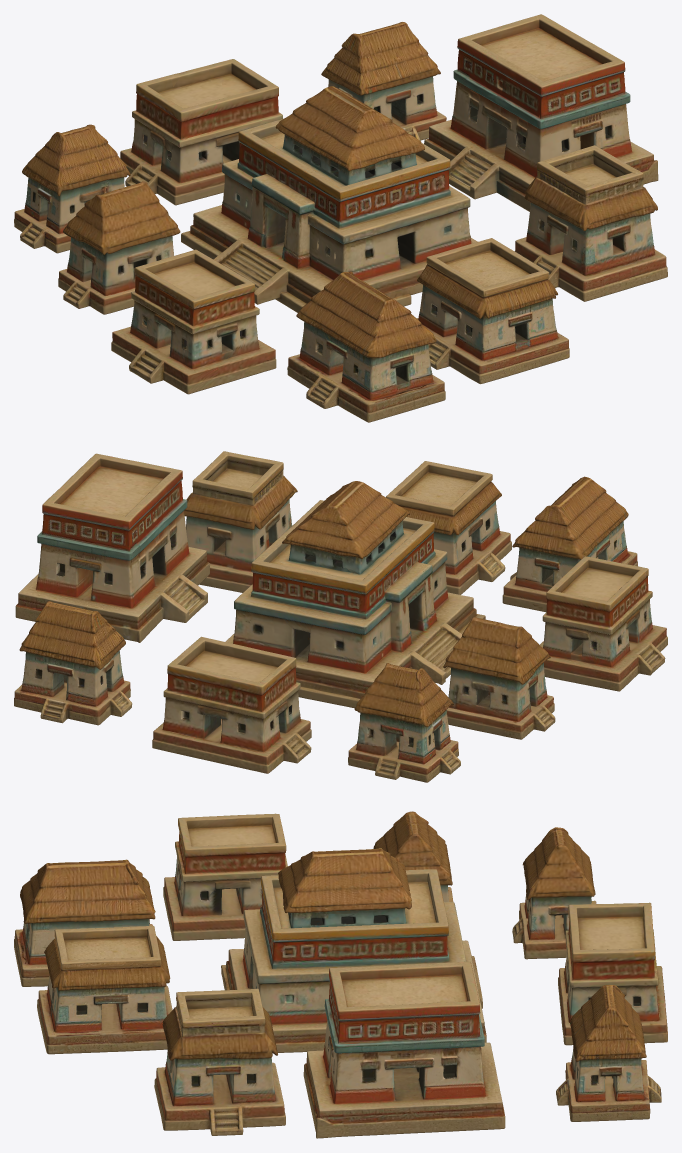
File: Classical Village (Mesoamerican).fbx
The picture shows the model from 3 angles, top to bottom: view 1: azimuth 30°, elevation 25°; view 2: azimuth 150°, elevation 25°; view 3: azimuth 270°, elevation 25°; orthographic projection. The views are drawn at different scales.
Visible parts, largest first — view 1: tripo_node_90afe970; view 2: tripo_node_90afe970; view 3: tripo_node_90afe970.
Boxes of the visible parts, box(x1,y1,x2,y2) form: tripo_node_90afe970: box(14, 14, 667, 422); tripo_node_90afe970: box(14, 451, 667, 782); tripo_node_90afe970: box(14, 811, 667, 1138).
Bounding box in the file's own units: 1 × 0.2822 × 0.9938.
